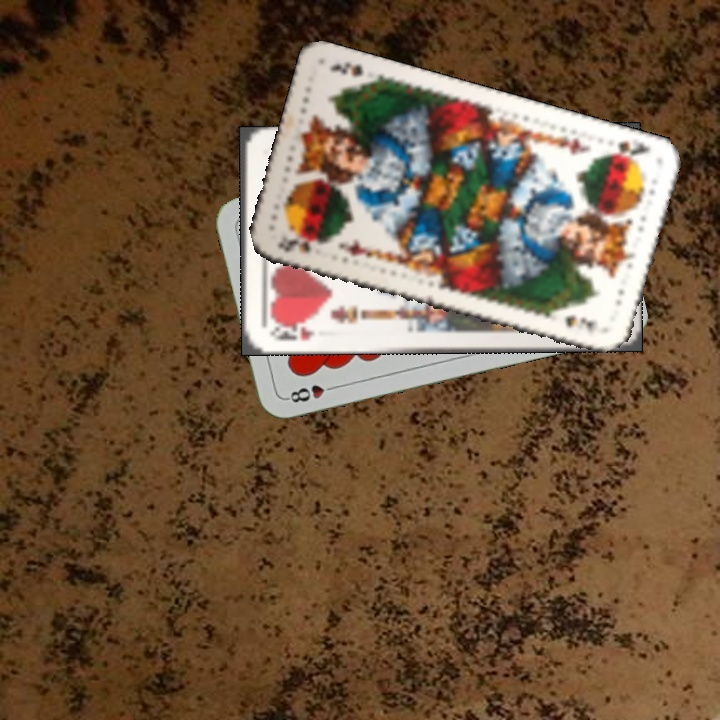H8: (282, 380, 340, 405)
HK: (266, 319, 317, 343)
SK: (602, 135, 654, 165), (274, 232, 317, 255)
